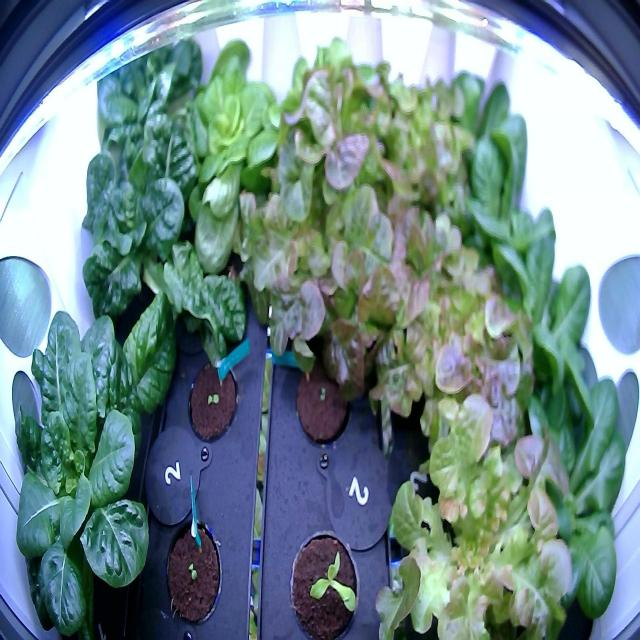Ready: (482, 349, 629, 627), (483, 216, 612, 422), (166, 23, 291, 226), (448, 136, 564, 302), (423, 57, 529, 217)
germination: (155, 514, 228, 632), (288, 349, 356, 459), (180, 347, 241, 450)
young: (1, 299, 165, 638), (85, 8, 201, 221), (78, 141, 186, 311), (284, 522, 364, 638)
